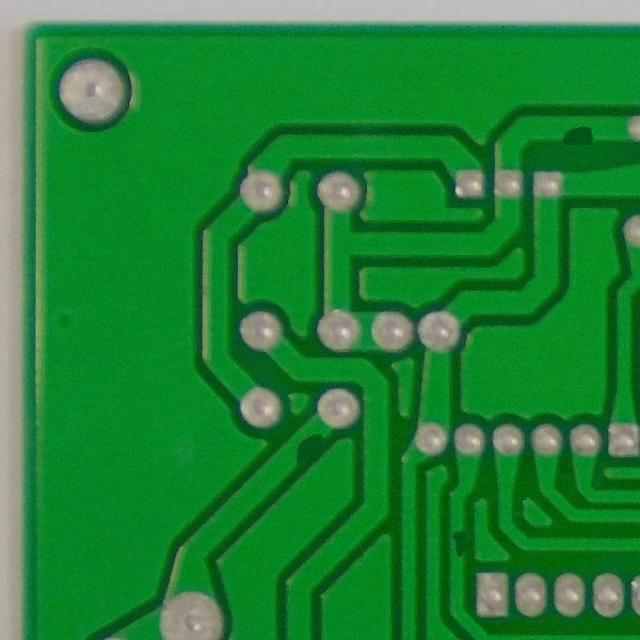MouseBite: (551, 120, 607, 148), (292, 428, 330, 468), (444, 524, 472, 564)
